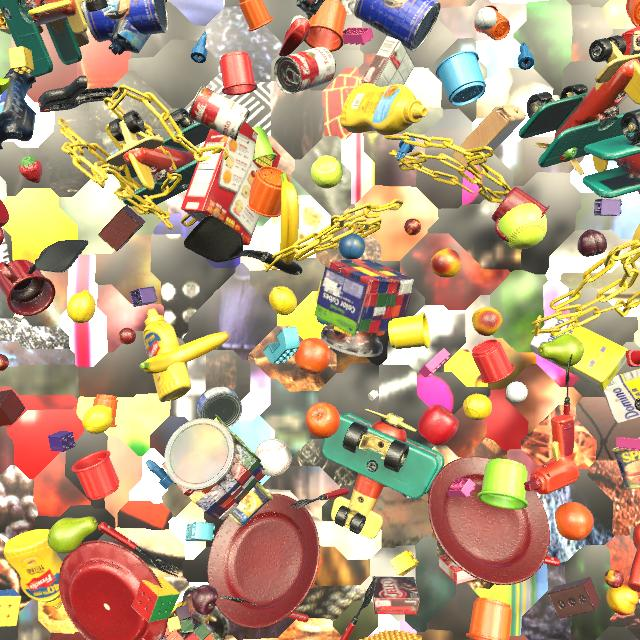ycb_002_master_chef_can: (354, 0, 441, 52), (82, 0, 169, 42)
ycb_003_cracker_box: (181, 122, 281, 245)
ycb_004_sugar_box: (530, 313, 628, 391), (603, 368, 640, 423)
ycb_005_tomato_soup_can: (188, 85, 250, 141), (274, 47, 336, 94)
ycb_006_mustard_bottle: (3, 529, 63, 609), (340, 83, 428, 135), (143, 309, 191, 402), (631, 223, 640, 249)
ycb_007_tuna_fish_can: (197, 386, 242, 428)
ycb_008_pudding_box: (361, 36, 415, 87), (372, 576, 419, 615)
ycb_009_gelatin_box: (438, 554, 476, 585)
ycb_010_potted_meat_can: (229, 482, 273, 527), (612, 447, 640, 490)
ycb_011_banana: (140, 332, 230, 374), (280, 173, 299, 265)
ycb_012_strawberry: (18, 156, 42, 183), (559, 148, 578, 162)
ycb_013_apple: (418, 404, 459, 446)
ycb_014_lemon: (67, 290, 96, 323), (82, 404, 113, 434), (269, 286, 297, 315), (463, 394, 492, 420)
ycb_015_peach: (606, 583, 639, 616), (431, 248, 461, 278), (472, 307, 502, 336), (638, 190, 640, 195)
ycb_016_pear: (47, 516, 98, 554), (538, 334, 584, 367)
ycb_017_orange: (555, 502, 594, 540), (295, 338, 331, 374), (305, 402, 340, 438)
ycb_018_plum: (577, 230, 607, 257), (192, 585, 218, 615)
